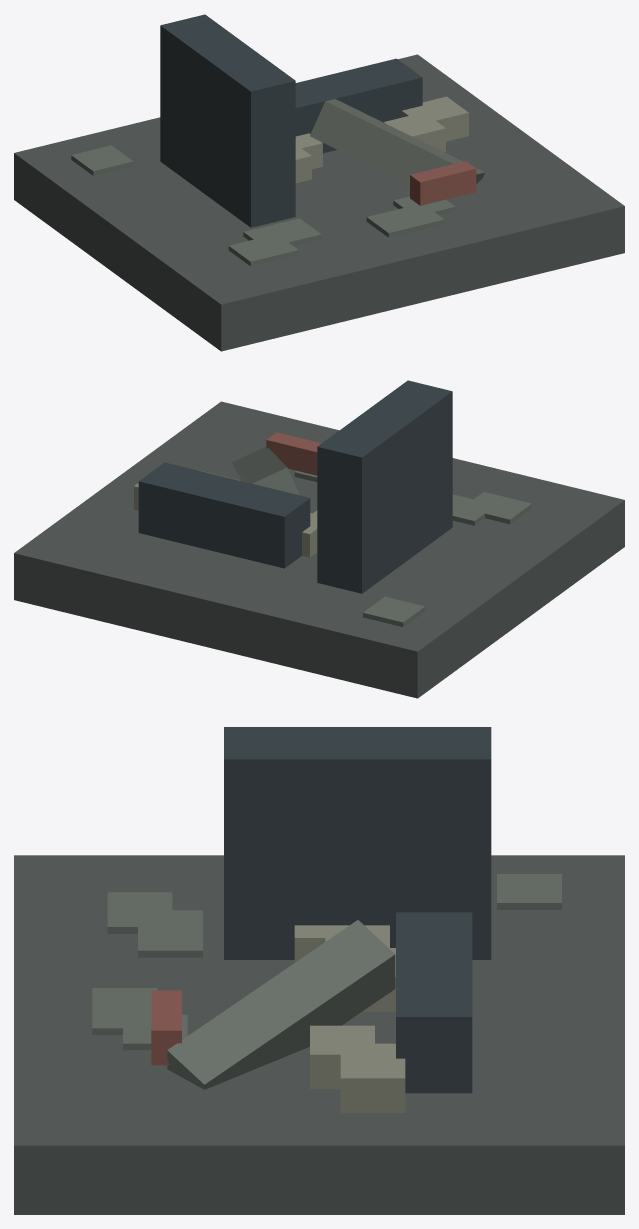
The model's file is enemy-source-ruined.glb.
3 renders of one model, top to bottom at view 1: azimuth 30°, elevation 25°; view 2: azimuth 150°, elevation 25°; view 3: azimuth 270°, elevation 25°, orthographic. The views are drawn at different scales.
Visible parts, largest first — view 1: enemy-source-ruined; view 2: enemy-source-ruined; view 3: enemy-source-ruined.
Part boxes in pixels (box(x1,y1,x2,y2)): enemy-source-ruined: box(14, 14, 624, 351); enemy-source-ruined: box(14, 380, 624, 698); enemy-source-ruined: box(14, 727, 624, 1214).
Size of the model in its own units: 1.8 by 0.78 by 1.6.
